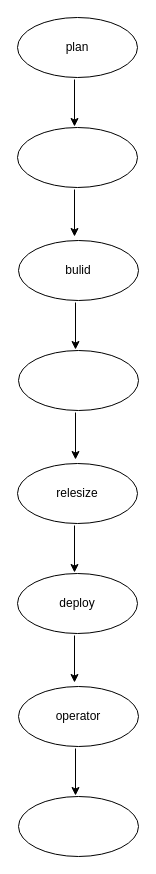
Some shapes in this 156 by 874 pixel diagram are drawn without their labels. Here are the shapes that lost their labels. From the top down, the centre of each, then its label:
(x=77, y=157): develop
(x=78, y=380): test
